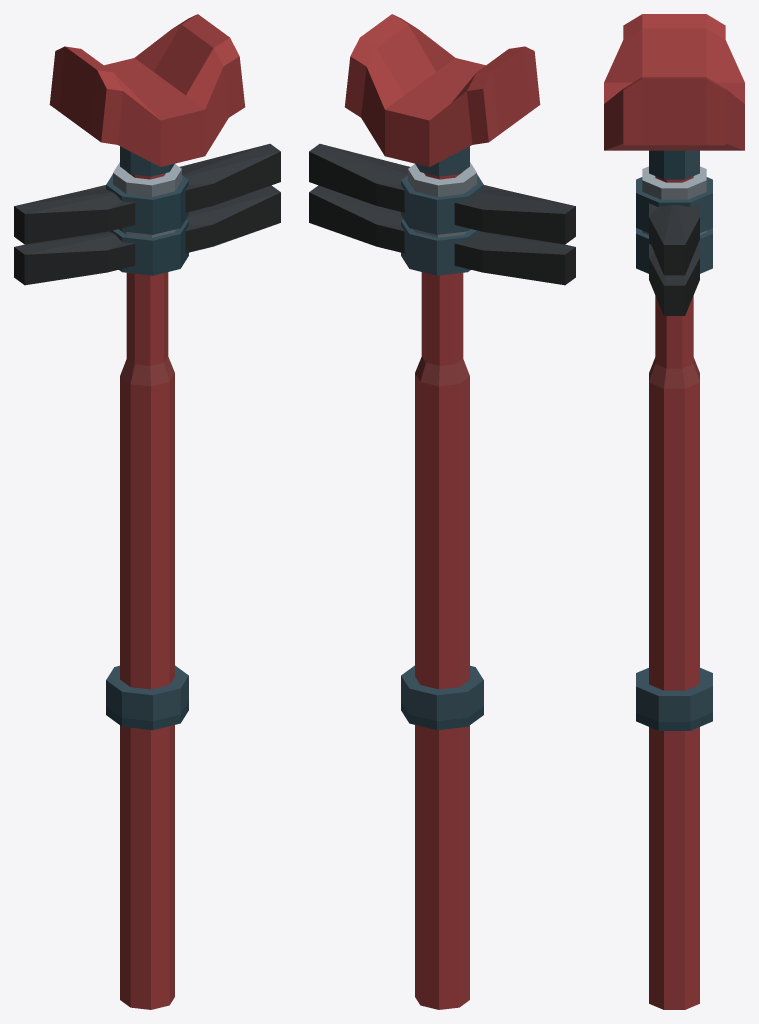
File: ElectricityPole.fbx
3 views of the same model, side by side, from view 1: azimuth 30°, elevation 25°; view 2: azimuth 150°, elevation 25°; view 3: azimuth 270°, elevation 25° (orthographic).
Visible parts, largest first — view 1: Pole, RailGuider, cylinder, cylinder_1, Bottom, Rotator, Rotator_2, Bolt, Rotator_1; view 2: Pole, RailGuider, cylinder, cylinder_1, Bottom, Rotator, Rotator_2, Bolt, Rotator_1; view 3: Pole, RailGuider, Bottom, cylinder, cylinder_1, Rotator, Rotator_1, Bolt, Rotator_2.
Part boxes in pixels (x1,y1,x2,y2): Pole: (120, 172, 174, 1009); RailGuider: (49, 14, 245, 166); cylinder: (14, 144, 280, 244); cylinder_1: (14, 185, 280, 285); Bottom: (106, 665, 188, 730); Rotator: (106, 174, 188, 234); Rotator_2: (109, 219, 188, 275); Bolt: (113, 162, 181, 237); Rotator_1: (120, 146, 174, 176); Pole: (415, 172, 469, 1009); RailGuider: (344, 14, 540, 166); cylinder: (309, 144, 575, 244); cylinder_1: (309, 185, 575, 285); Bottom: (401, 665, 483, 730); Rotator: (401, 174, 483, 234); Rotator_2: (401, 219, 480, 275); Bolt: (408, 162, 476, 237); Rotator_1: (415, 146, 469, 176); Pole: (649, 176, 699, 1009); RailGuider: (604, 14, 744, 150); Bottom: (636, 668, 712, 730); cylinder: (649, 203, 699, 275); cylinder_1: (649, 244, 699, 315); Rotator: (636, 177, 712, 232); Rotator_1: (649, 150, 699, 179); Bolt: (642, 166, 706, 234); Rotator_2: (636, 228, 712, 273).
Size of the model in its own units: 28.75 by 103 by 13.75.
1 material, 1 textured.
